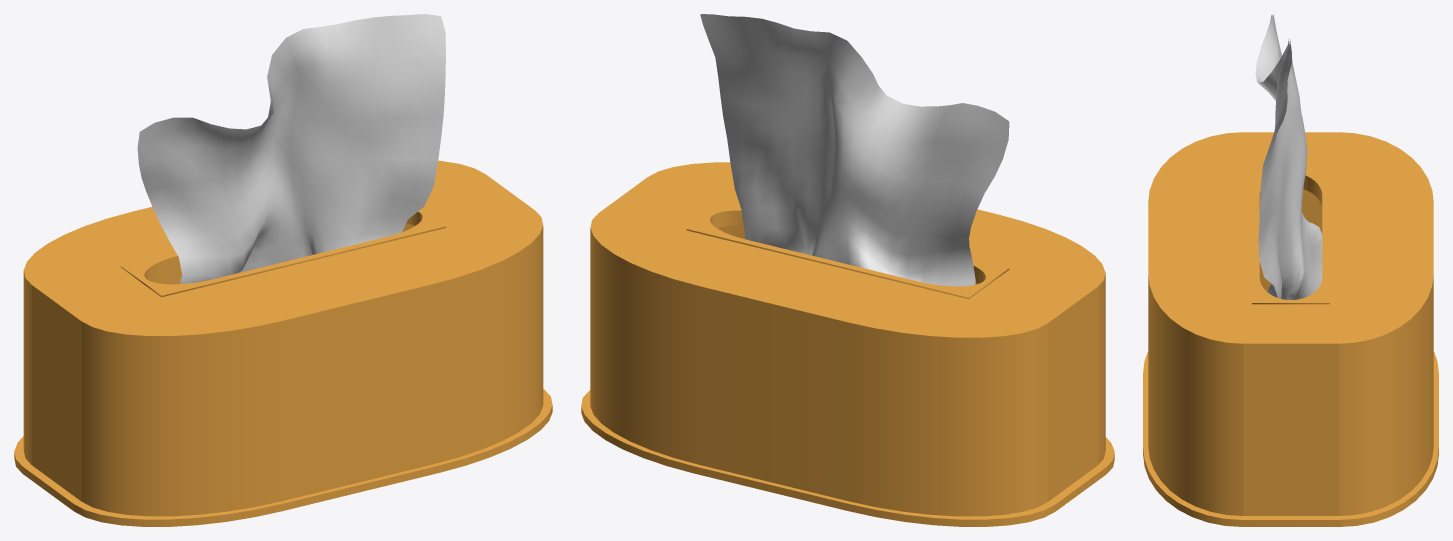
File: Tisu.fbx
The picture shows the model from 3 angles, left to right: view 1: azimuth 30°, elevation 25°; view 2: azimuth 150°, elevation 25°; view 3: azimuth 270°, elevation 25°; orthographic projection. The views are drawn at different scales.
Parts seen in each view (by area): view 1: Tisu; view 2: Tisu; view 3: Tisu.
Boxes of the visible parts, box(x1,y1,x2,y2) form: Tisu: box(14, 14, 552, 526); Tisu: box(581, 14, 1114, 526); Tisu: box(1143, 14, 1438, 526).
Size of the model in its own units: 21.99 by 17.95 by 12.55.
